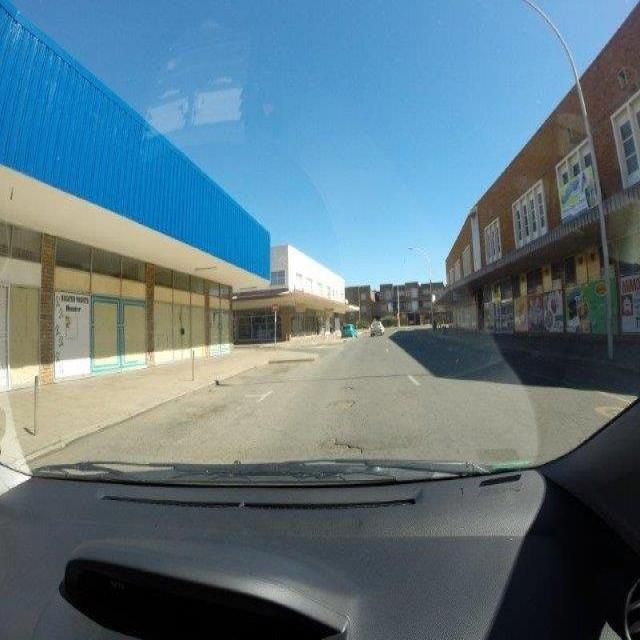lubang: (311, 433, 368, 460), (326, 395, 355, 413)
